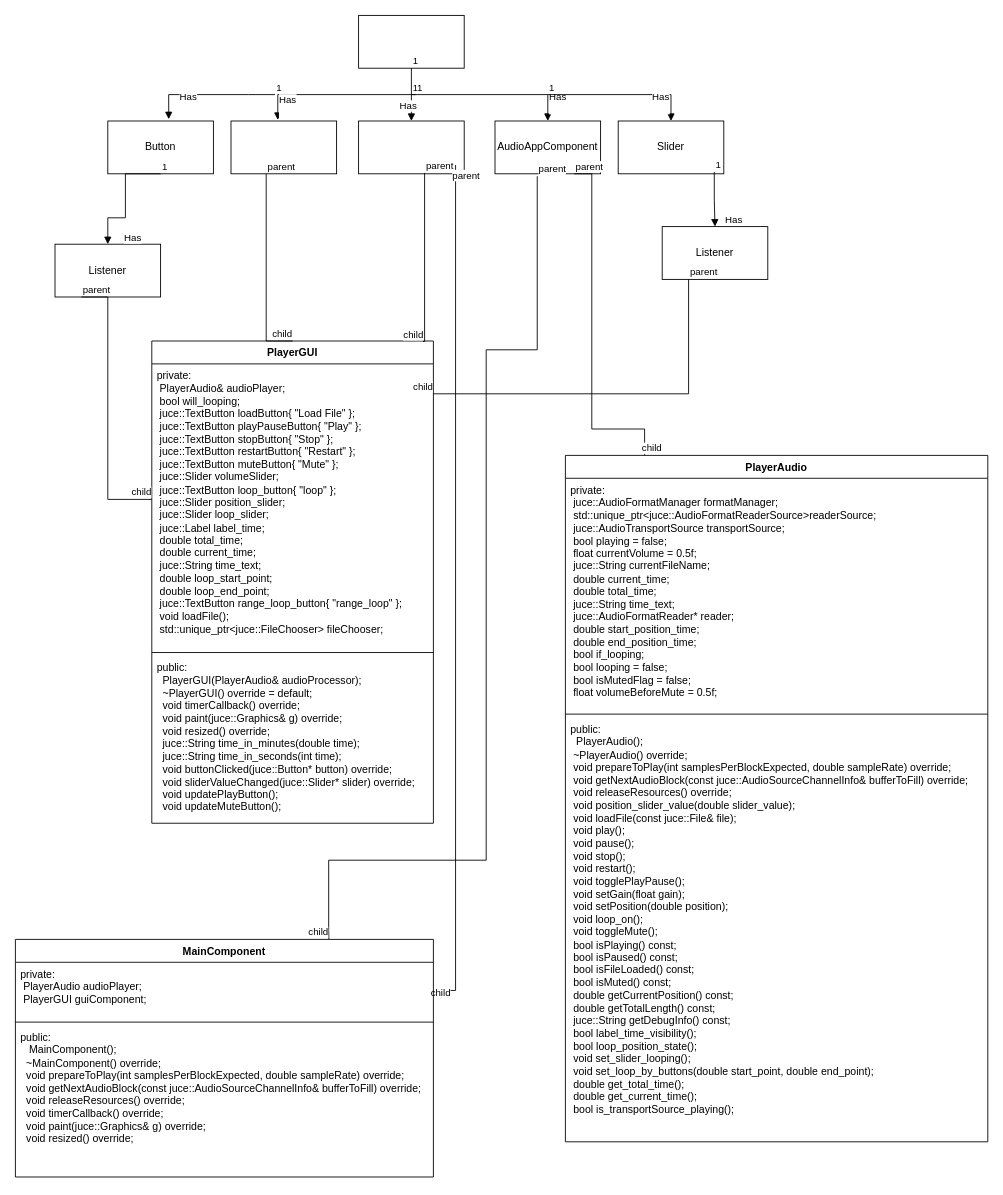
This 1003x1195 diagram has some shape labels left out. The box of each missing label's shape, as (x1, y1, x2, y2) in pixels:
Component: (230, 120, 337, 174)
JuceHeader.h: (358, 15, 464, 68)
Timer: (358, 120, 464, 174)
